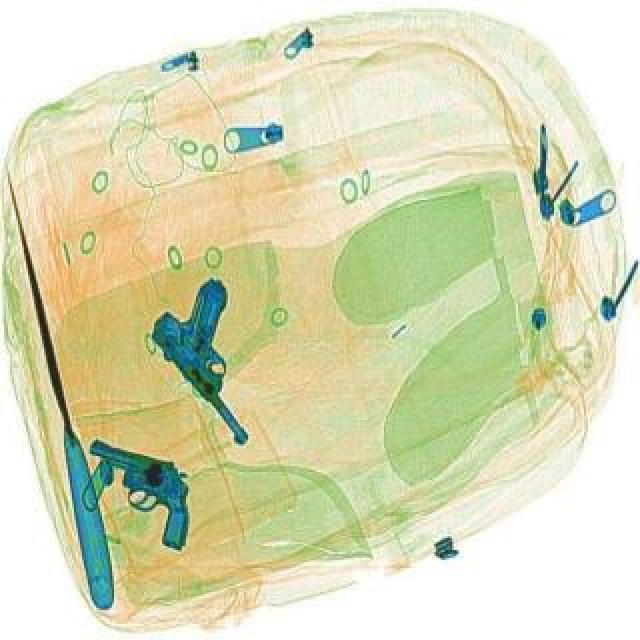gun: (136, 270, 314, 444), (64, 432, 212, 552)
knife: (2, 162, 120, 610)
